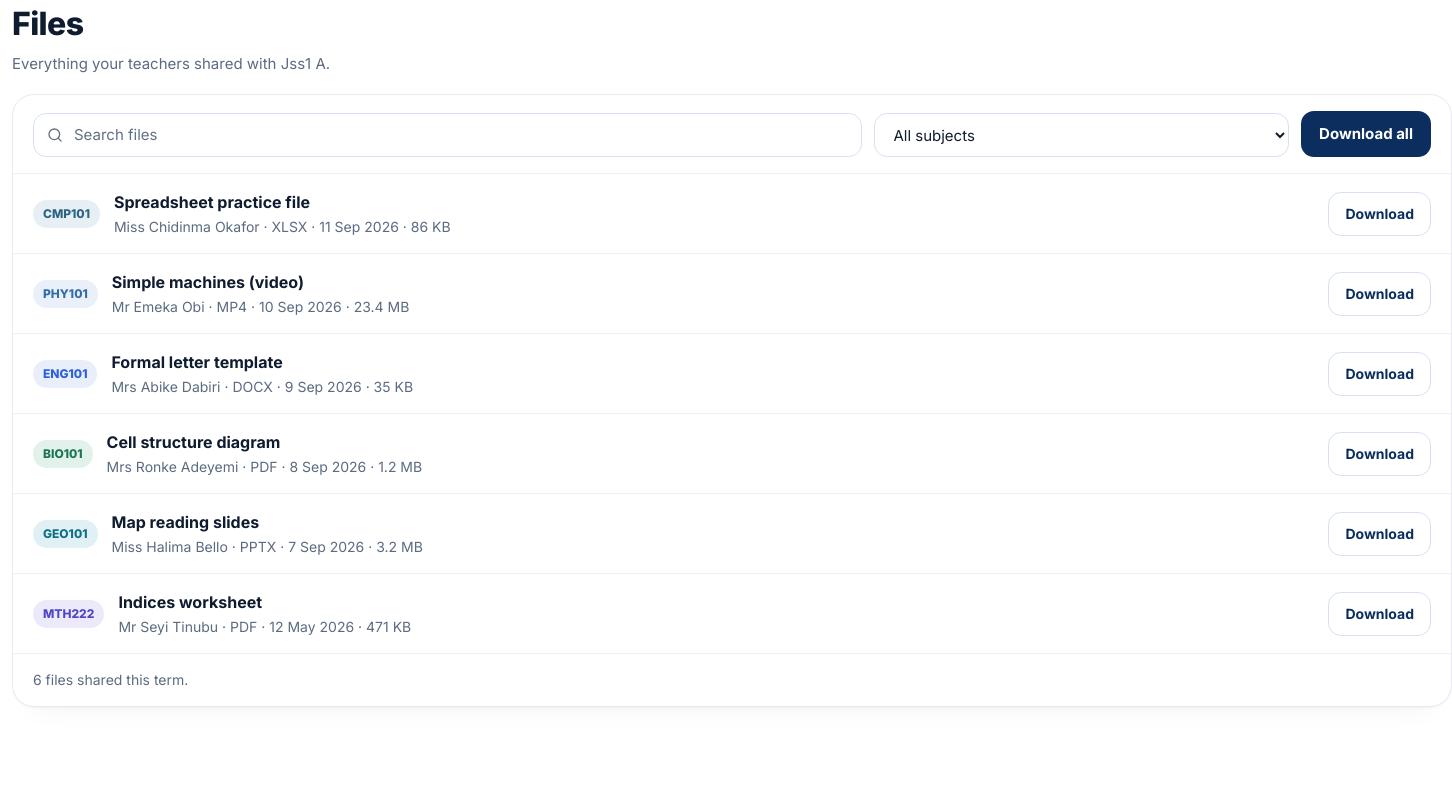
Files screen › says when nothing matches, and Clear search brings the list back
The width and height of the screenshot is (1452, 810).
Expected: the list named "Files" is shown, 13,174 -> 1451,654
In the search field labelled "Search files": (448, 135) 33,113 -> 862,157, type "zzz"
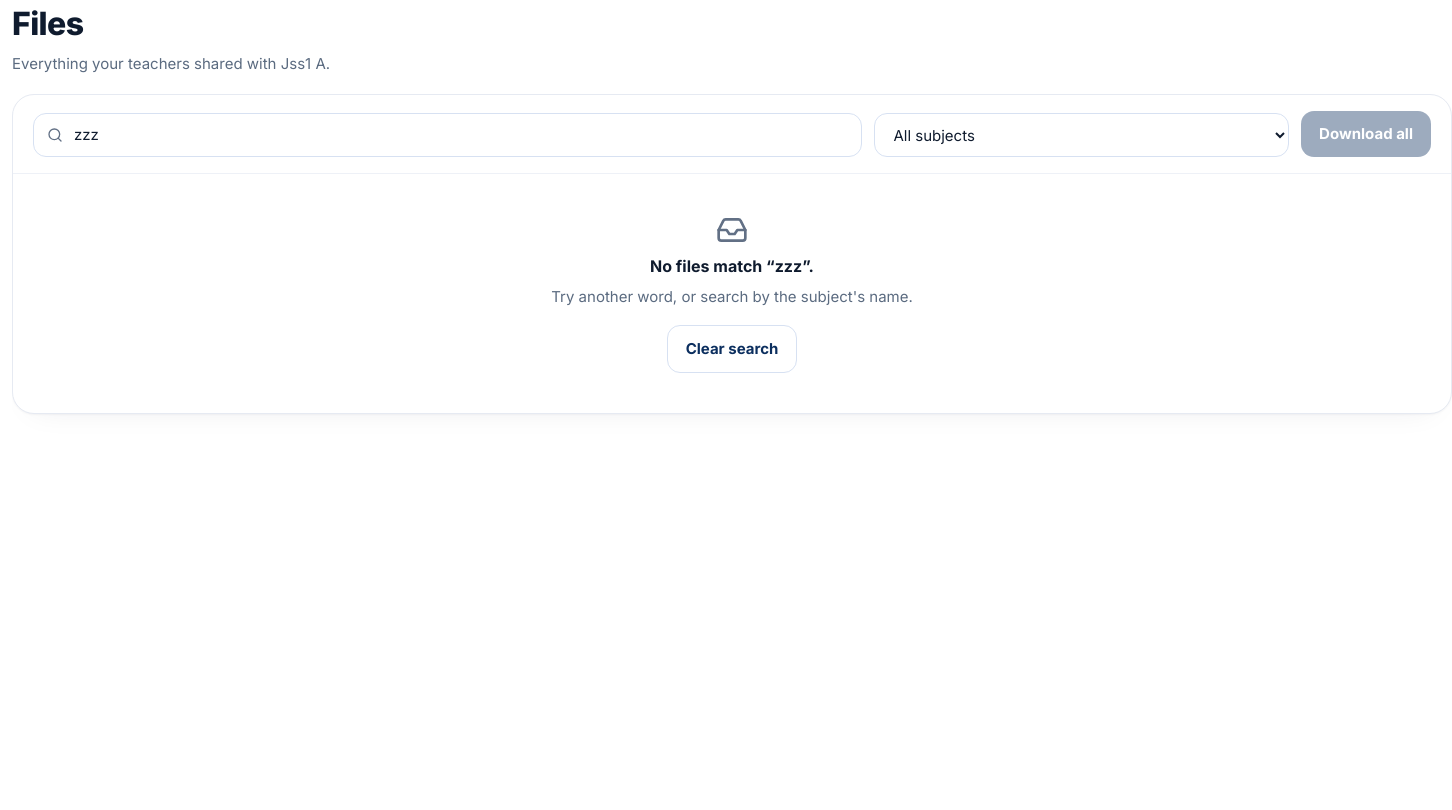
Now the text "No files match “zzz”." is shown, box 650,254 -> 814,278
Click the button "Clear search": (732, 349) 667,324 -> 797,373
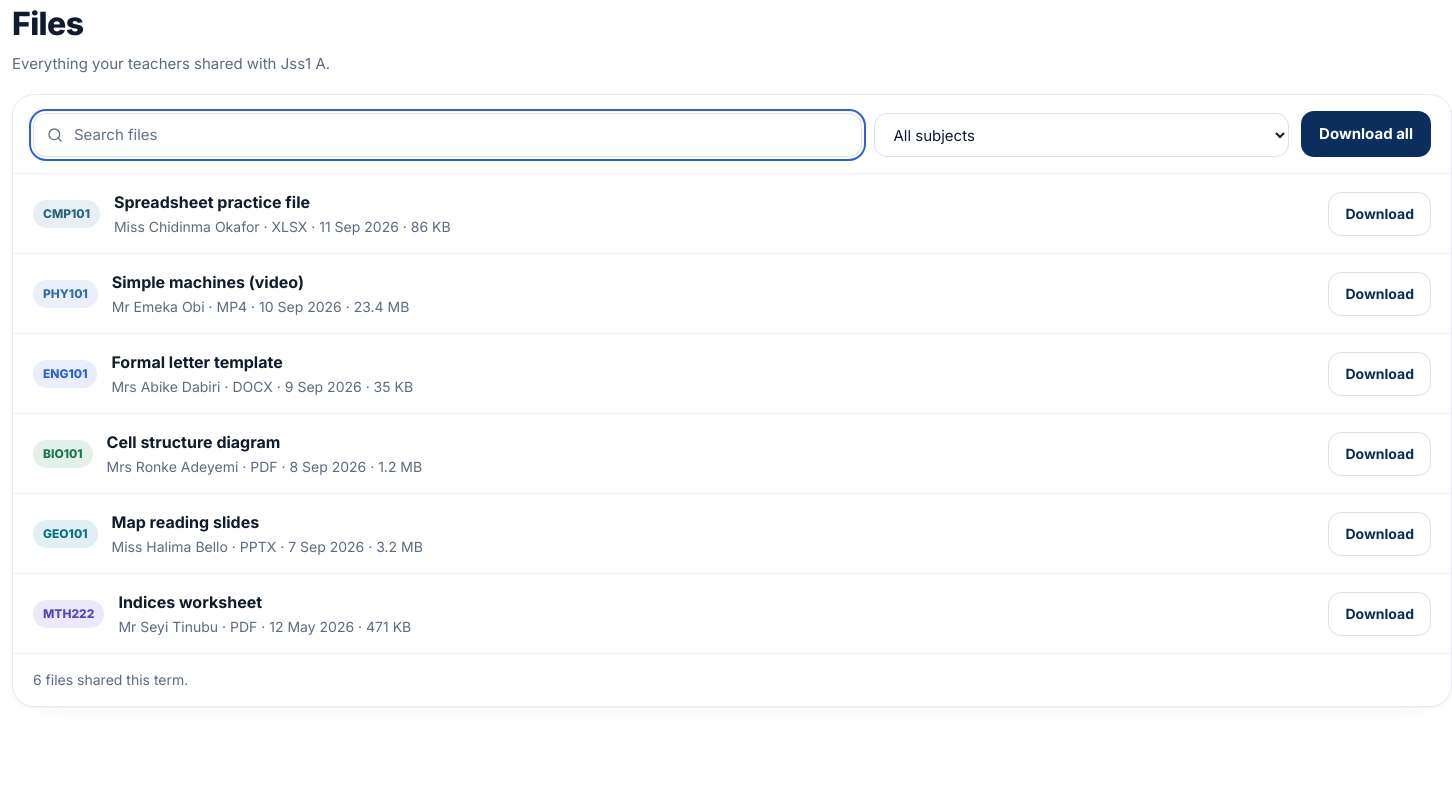
Now the number of list items is 6, box 13,174 -> 1451,254; 13,254 -> 1451,334; 13,334 -> 1451,414; 13,414 -> 1451,494; 13,494 -> 1451,574; 13,574 -> 1451,654
Now the search field labelled "Search files" is empty, box 33,113 -> 862,157
